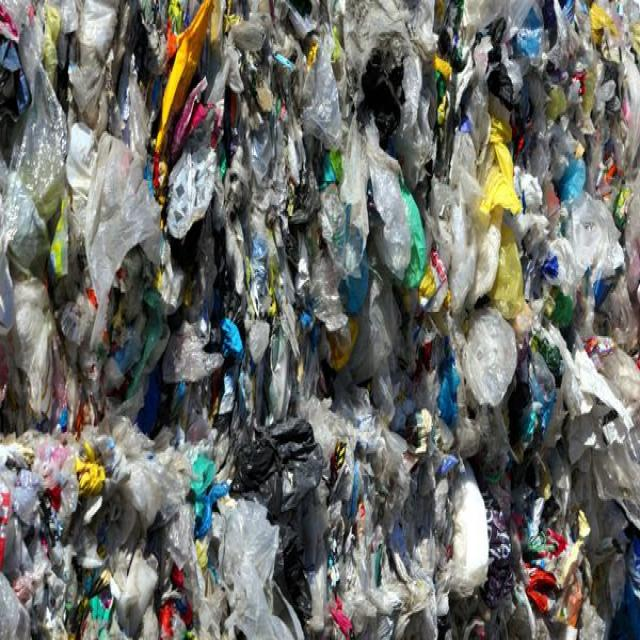garbage: (33, 18, 612, 640)
